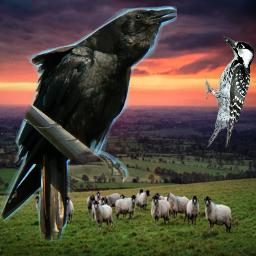Crow: (0, 6, 177, 244)
Woodpecker: (205, 35, 254, 148)
